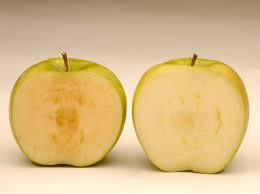damaged_apple: (134, 60, 249, 177), (11, 62, 126, 165)
